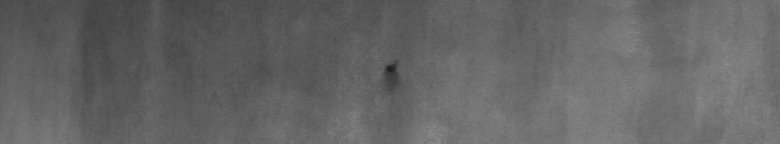fi: (375, 56, 404, 91)
